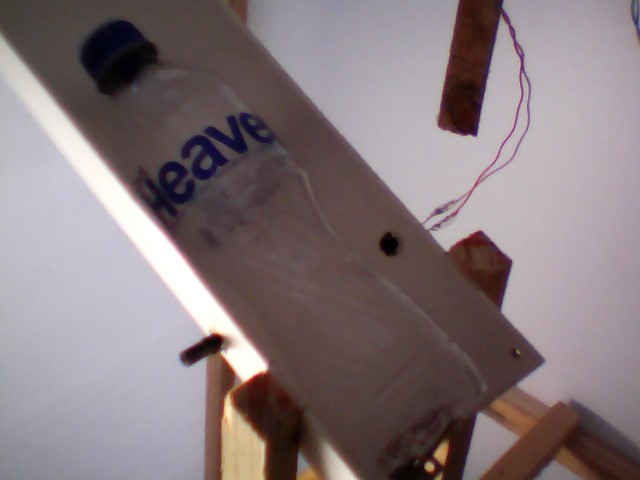plastico: (68, 10, 494, 480)
